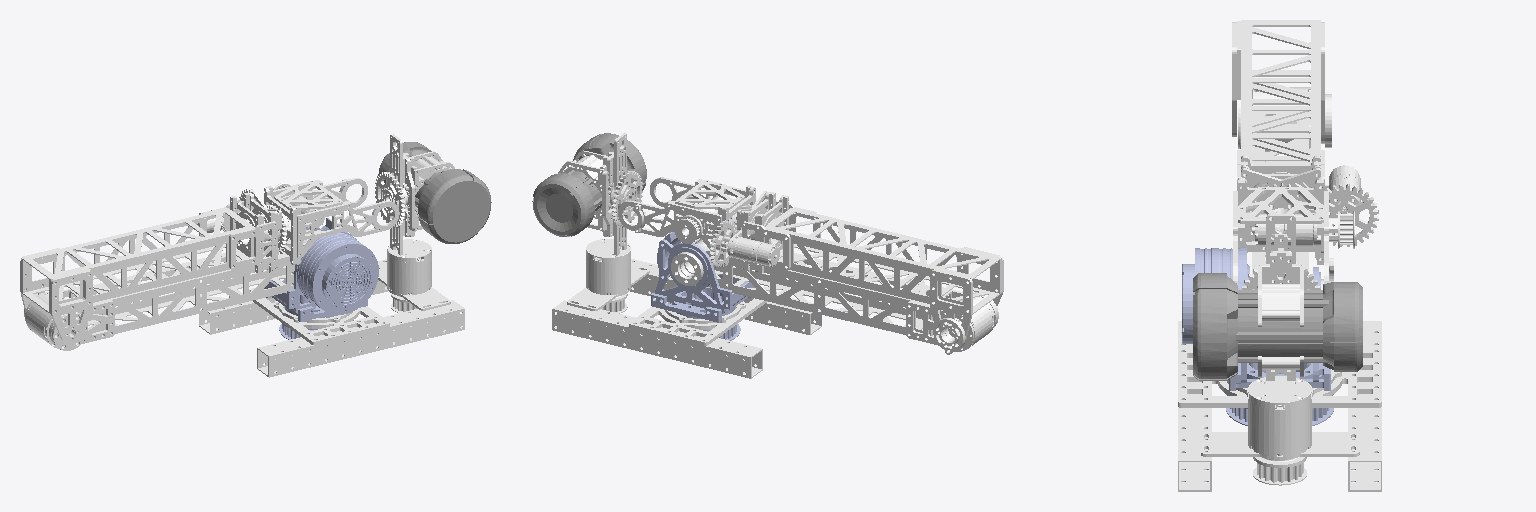
URDF robot description (M71_predev_with_mass):
<?xml version="1.0" encoding="utf-8"?>
<!-- This URDF was automatically created by SolidWorks to URDF Exporter! Originally created by Stephen Brawner (brawner@gmail.com) 
     Commit Version: 1.6.0-4-g7f85cfe  Build Version: 1.6.7995.38578
     For more information, please see http://wiki.ros.org/sw_urdf_exporter -->
<robot
  name="M71_predev_with_mass">
  <link
    name="base_link">
    <inertial>
      <origin
        xyz="0.103268778921935 2.63570126621579E-05 0.0451510845776628"
        rpy="0 0 0" />
      <mass
        value="0.525732226164853" />
      <inertia
        ixx="0.000541963771014469"
        ixy="-9.44266555498385E-07"
        ixz="5.34954922006261E-08"
        iyy="0.000334928327899546"
        iyz="-7.4052875136291E-12"
        izz="0.000767813420505578" />
    </inertial>
    <visual>
      <origin
        xyz="0 0 0"
        rpy="0 0 0" />
      <geometry>
        <mesh
          filename="../meshes/base_link.STL" />
      </geometry>
      <material
        name="">
        <color
          rgba="1 1 1 1" />
      </material>
    </visual>
    <collision>
      <origin
        xyz="0 0 0"
        rpy="0 0 0" />
      <geometry>
        <mesh
          filename="../meshes/base_link.STL" />
      </geometry>
    </collision>
  </link>
  <link
    name="L1">
    <inertial>
      <origin
        xyz="0.000802036572609244 -0.0368014555686905 0.072046935078681"
        rpy="0 0 0" />
      <mass
        value="1.29562898321091" />
      <inertia
        ixx="0.000962377318534669"
        ixy="-3.79837630367476E-08"
        ixz="-7.12943182063905E-06"
        iyy="0.0014167079100502"
        iyz="1.37397510312316E-07"
        izz="0.00113754934180864" />
    </inertial>
    <visual>
      <origin
        xyz="0 0 0"
        rpy="0 0 0" />
      <geometry>
        <mesh
          filename="../meshes/L1.STL" />
      </geometry>
      <material
        name="">
        <color
          rgba="0.796078431372549 0.823529411764706 0.937254901960784 1" />
      </material>
    </visual>
    <collision>
      <origin
        xyz="0 0 0"
        rpy="0 0 0" />
      <geometry>
        <mesh
          filename="../meshes/L1.STL" />
      </geometry>
    </collision>
  </link>
  <joint
    name="J1"
    type="revolute">
    <origin
      xyz="0 0 0.017"
      rpy="0 0 0" />
    <parent
      link="base_link" />
    <child
      link="L1" />
    <axis
      xyz="0 0 1" />
    <limit
      lower="-0.78539"
      upper="1.5708"
      effort="0"
      velocity="0" />
  </joint>
  <link
    name="L2">
    <inertial>
      <origin
        xyz="0.276022616928775 -3.78941563524802E-05 0.00316030804005207"
        rpy="0 0 0" />
      <mass
        value="0.714295134755578" />
      <inertia
        ixx="0.000328490609573369"
        ixy="-5.87243263936385E-08"
        ixz="-7.89437098662058E-07"
        iyy="0.00255635570646241"
        iyz="-5.34954921933572E-08"
        izz="0.00260746701872188" />
    </inertial>
    <visual>
      <origin
        xyz="0 0 0"
        rpy="0 0 0" />
      <geometry>
        <mesh
          filename="../meshes/L2.STL" />
      </geometry>
      <material
        name="">
        <color
          rgba="1 1 1 1" />
      </material>
    </visual>
    <collision>
      <origin
        xyz="0 0 0"
        rpy="0 0 0" />
      <geometry>
        <mesh
          filename="../meshes/L2.STL" />
      </geometry>
    </collision>
  </link>
  <joint
    name="J2"
    type="revolute">
    <origin
      xyz="0 0.000700000000000432 0.0840000000000053"
      rpy="1.5707963267949 0 3.14159265358979" />
    <parent
      link="L1" />
    <child
      link="L2" />
    <axis
      xyz="0 0 1" />
    <limit
      lower="0"
      upper="1.7279"
      effort="0"
      velocity="0" />
  </joint>
  <link
    name="L3">
    <inertial>
      <origin
        xyz="0.0495929539197099 0.19150742344664 0.0141280832883744"
        rpy="0 0 0" />
      <mass
        value="0.667504404881856" />
      <inertia
        ixx="0.00159510506902824"
        ixy="-1.7039136196035E-08"
        ixz="5.89735997452818E-10"
        iyy="0.00040078715635475"
        iyz="-9.27275401182041E-07"
        izz="0.00158342227400193" />
    </inertial>
    <visual>
      <origin
        xyz="0 0 0"
        rpy="0 0 0" />
      <geometry>
        <mesh
          filename="../meshes/L3.STL" />
      </geometry>
      <material
        name="">
        <color
          rgba="1 1 1 1" />
      </material>
    </visual>
    <collision>
      <origin
        xyz="0 0 0"
        rpy="0 0 0" />
      <geometry>
        <mesh
          filename="../meshes/L3.STL" />
      </geometry>
    </collision>
  </link>
  <joint
    name="J3"
    type="revolute">
    <origin
      xyz="0.385 0 0"
      rpy="0 0 1.5707963267949" />
    <parent
      link="L2" />
    <child
      link="L3" />
    <axis
      xyz="0 0 1" />
    <limit
      lower="-3.1416"
      upper="0"
      effort="0"
      velocity="0" />
  </joint>
  <link
    name="L4">
    <inertial>
      <origin
        xyz="0.00727821714922663 -0.00545245033552578 0.042582887228975"
        rpy="0 0 0" />
      <mass
        value="0.384225986815981" />
      <inertia
        ixx="0.000227282920478876"
        ixy="-6.18353461020179E-08"
        ixz="6.07765528901619E-06"
        iyy="0.000187282419724213"
        iyz="2.8092854373488E-07"
        izz="0.000137391547692594" />
    </inertial>
    <visual>
      <origin
        xyz="0 0 0"
        rpy="0 0 0" />
      <geometry>
        <mesh
          filename="../meshes/L4.STL" />
      </geometry>
      <material
        name="">
        <color
          rgba="1 1 1 1" />
      </material>
    </visual>
    <collision>
      <origin
        xyz="0 0 0"
        rpy="0 0 0" />
      <geometry>
        <mesh
          filename="../meshes/L4.STL" />
      </geometry>
    </collision>
  </link>
  <joint
    name="J4"
    type="revolute">
    <origin
      xyz="0.0569999999999631 0.320000000000029 0.000300000000026791"
      rpy="-1.5707963267949 0 0" />
    <parent
      link="L3" />
    <child
      link="L4" />
    <axis
      xyz="0 0 1" />
    <limit
      lower="-2.618"
      upper="2.618"
      effort="0"
      velocity="0" />
  </joint>
  <link
    name="L5">
    <inertial>
      <origin
        xyz="-0.00519731545494539 0.0200802112037431 -0.00120582269950564"
        rpy="0 0 0" />
      <mass
        value="0.434683847839268" />
      <inertia
        ixx="0.00015315807664498"
        ixy="-6.81580085458053E-08"
        ixz="-3.41704757314174E-11"
        iyy="7.93741447130584E-05"
        iyz="6.49783066098806E-10"
        izz="0.000112388253275793" />
    </inertial>
    <visual>
      <origin
        xyz="0 0 0"
        rpy="0 0 0" />
      <geometry>
        <mesh
          filename="../meshes/L5.STL" />
      </geometry>
      <material
        name="">
        <color
          rgba="1 1 1 1" />
      </material>
    </visual>
    <collision>
      <origin
        xyz="0 0 0"
        rpy="0 0 0" />
      <geometry>
        <mesh
          filename="../meshes/L5.STL" />
      </geometry>
    </collision>
  </link>
  <joint
    name="J5"
    type="revolute">
    <origin
      xyz="0 0 0.143999999999979"
      rpy="1.5707963267949 1.5707963267949 0" />
    <parent
      link="L4" />
    <child
      link="L5" />
    <axis
      xyz="0 0 1" />
    <limit
      lower="-1.5708"
      upper="1.5708"
      effort="0"
      velocity="0" />
  </joint>
  <link
    name="L6">
    <inertial>
      <origin
        xyz="0.000643868889061761 2.1748553478973E-15 0.0269254560620784"
        rpy="0 0 0" />
      <mass
        value="0.182901343384467" />
      <inertia
        ixx="3.35536779235108E-05"
        ixy="3.84000716533004E-06"
        ixz="-2.99059789727584E-21"
        iyy="0.000131853983281257"
        iyz="-3.3413380445873E-13"
        izz="0.000131614299438529" />
    </inertial>
    <visual>
      <origin
        xyz="0 0 0"
        rpy="0 0 0" />
      <geometry>
        <mesh
          filename="../meshes/L6.STL" />
      </geometry>
      <material
        name="">
        <color
          rgba="1 1 1 1" />
      </material>
    </visual>
    <collision>
      <origin
        xyz="0 0 0"
        rpy="0 0 0" />
      <geometry>
        <mesh
          filename="../meshes/L6.STL" />
      </geometry>
    </collision>
  </link>
  <joint
    name="J6"
    type="continuous">
    <origin
      xyz="-0.0279000000000142 0 0"
      rpy="1.5707963267949 0 -1.5707963267949" />
    <parent
      link="L5" />
    <child
      link="L6" />
    <axis
      xyz="0 0 1" />
    <limit
      lower="-6.28"
      upper="6.28"
      effort="0"
      velocity="0" />
  </joint>
  <link
    name="TCP_Link">
    <inertial>
      <origin
        xyz="1.9710393328598E-07 1.74323635937501E-06 0.014558288851745"
        rpy="0 0 0" />
      <mass
        value="0.500023190449591" />
      <inertia
        ixx="0.00162675067500074"
        ixy="5.21909069436667E-09"
        ixz="-2.37566738557499E-09"
        iyy="0.00162676276157756"
        iyz="-1.6987873543833E-09"
        izz="0.000582170392414952" />
    </inertial>
    <visual>
      <origin
        xyz="0 0 0"
        rpy="0 0 0" />
      <geometry>
        <mesh
          filename="../meshes/TCP_Link.STL" />
      </geometry>
      <material
        name="">
        <color
          rgba="0.698039215686274 0.698039215686274 0.698039215686274 1" />
      </material>
    </visual>
    <collision>
      <origin
        xyz="0 0 0"
        rpy="0 0 0" />
      <geometry>
        <mesh
          filename="../meshes/TCP_Link.STL" />
      </geometry>
    </collision>
  </link>
  <joint
    name="TCP"
    type="fixed">
    <origin
      xyz="0 0 0.0629999999999858"
      rpy="1.5707963267949 -1.5707963267949 0" />
    <parent
      link="L6" />
    <child
      link="TCP_Link" />
    <axis
      xyz="0 0 0" />
  </joint>
</robot>

--- Facts derived from the render (not from the file) ---
The picture shows the robot from 3 angles, left to right: view 1: azimuth 30°, elevation 25°; view 2: azimuth 150°, elevation 25°; view 3: azimuth 270°, elevation 25°; orthographic projection.
Robot: M71_predev_with_mass — 8 links, 7 joints (5 revolute, 1 continuous, 1 fixed); root link base_link; default pose: every joint at zero.
Links seen in each view (by area): view 1: L3, base_link, L2, L1, L4, TCP_Link, L6; view 2: L3, base_link, L2, L4, TCP_Link, L1, L6; view 3: base_link, L3, TCP_Link, L4, L6, L1, L2.
Boxes of the visible links, bbox=[...] form: L3: bbox=[20, 189, 281, 350]; base_link: bbox=[199, 239, 464, 377]; L2: bbox=[25, 230, 322, 348]; L1: bbox=[264, 218, 378, 339]; L4: bbox=[236, 178, 399, 264]; TCP_Link: bbox=[378, 142, 491, 243]; L6: bbox=[375, 134, 454, 255]; L3: bbox=[710, 191, 1003, 354]; base_link: bbox=[552, 239, 821, 378]; L2: bbox=[671, 238, 994, 351]; L4: bbox=[618, 177, 783, 265]; TCP_Link: bbox=[532, 133, 646, 236]; L1: bbox=[651, 218, 754, 340]; L6: bbox=[558, 133, 642, 255]; base_link: bbox=[1178, 321, 1381, 491]; L3: bbox=[1232, 20, 1378, 246]; TCP_Link: bbox=[1193, 273, 1362, 380]; L4: bbox=[1233, 177, 1354, 284]; L6: bbox=[1242, 214, 1320, 380]; L1: bbox=[1182, 247, 1333, 425]; L2: bbox=[1252, 87, 1323, 289].
Size in the robot's own frame: 0.6324 by 0.18 by 0.246 metres.
Meshes: 8 distinct files referenced, 7 mesh visuals loaded (7 binary STL); not drawn: 1 (reference not matched to a file when rendering).
